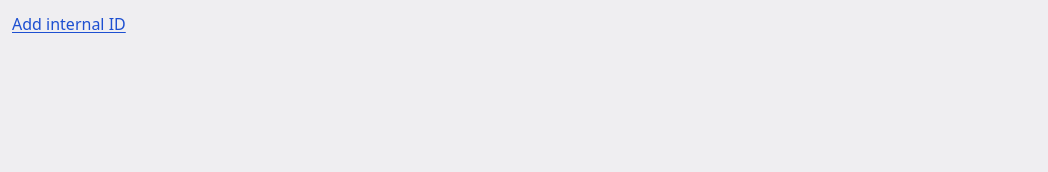
a refused value stays, with the reason
Click the button "Add internal ID".
click(69, 24)  # box [12,12,126,36]
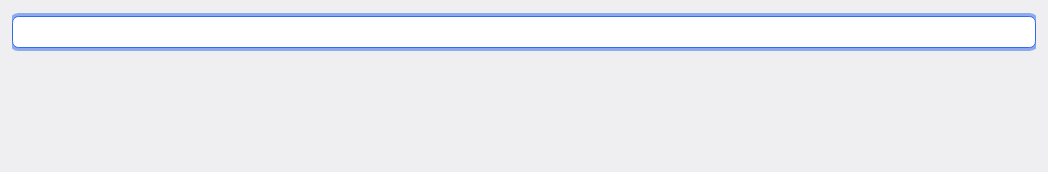
Type "K-1" into the field named "Add internal ID".
click(524, 32); type("K-1")  # box [12,16,1036,48]
Then press Enter
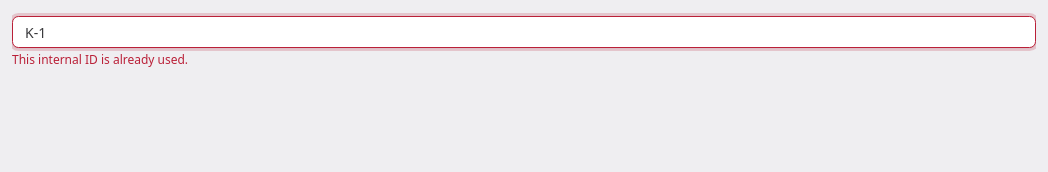
Expected: the message reads "This internal ID is already used.", [12,51,188,68]
